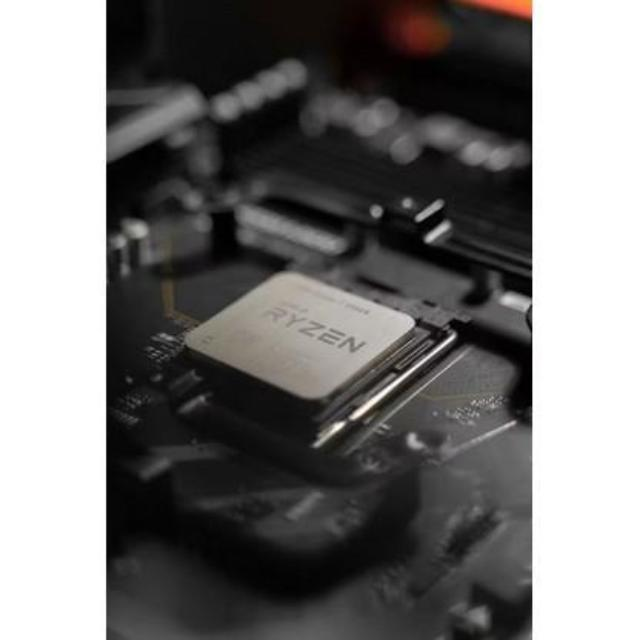CPU: (182, 265, 414, 410)
